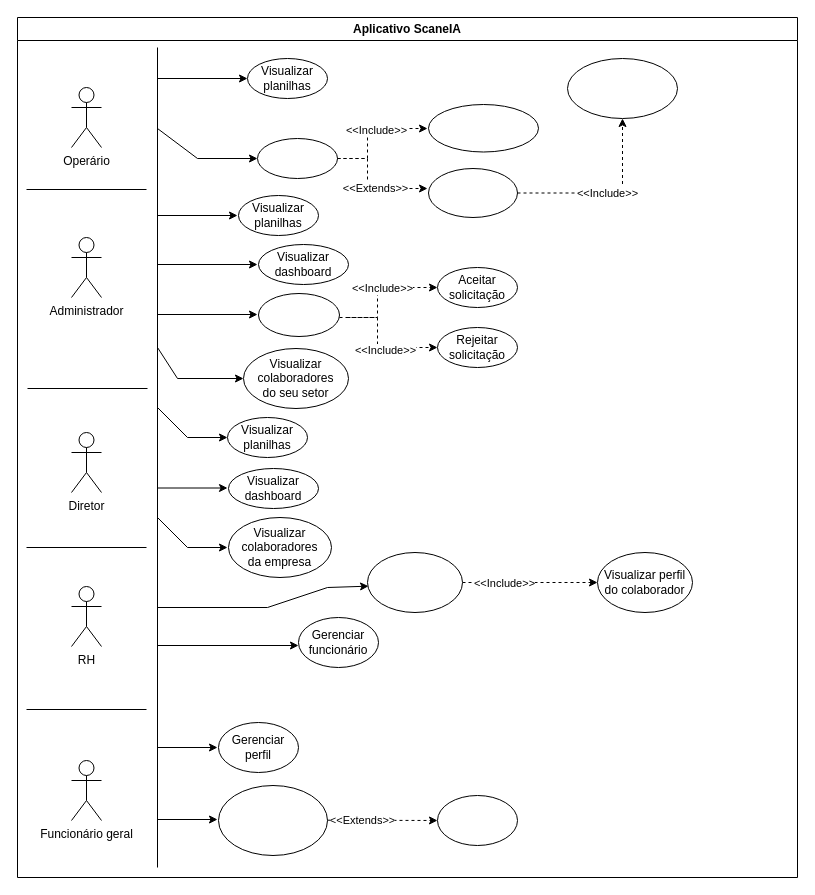
The diagram is 815 pixels wide and 895 high, and some of its shapes have lost their labels. Each missing label, with the centre of its shape:
Confirmar escaneamento: point 483,128
Entrar com E-mail e senha: point 273,820
Enviar para revisão do superior: point 622,88
Escanear planilha: point 297,158
Recuperar senha: point 477,820
Tratar dados inconsistentes: point 473,193
Visualizar funcionários da empresa: point 414,582
Visualizar solicitação: point 299,314
